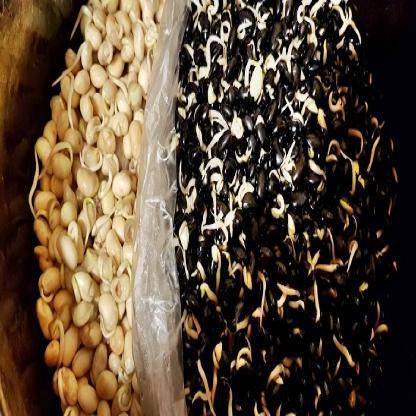bean sprouts: (50, 53, 136, 402)
